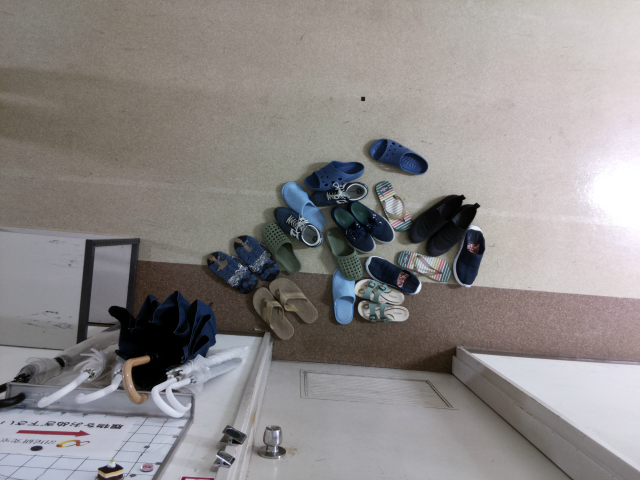Copy of Copy of Copy of Copy of Copy of Copy of Copy of sandal: (375, 180, 412, 231)
Copy of Copy of Copy of Copy of Copy of Copy of Copy of shoe: (365, 255, 421, 296)
Copy of Copy of Copy of Copy of Copy of Copy of sandal: (396, 249, 451, 282)
Copy of Copy of Copy of Copy of Copy of Copy of shoe: (451, 224, 484, 288)
Copy of Copy of Copy of Copy of Copy of sandal: (358, 299, 409, 323)
Copy of Copy of Copy of Copy of Copy of shoe: (425, 201, 480, 257)
Copy of Copy of Copy of Copy of Copy of slipper: (367, 137, 428, 175)
Copy of Copy of Copy of Copy of sandal: (354, 278, 404, 306)
Copy of Copy of Copy of Copy of shoe: (407, 193, 466, 243)
Copy of Copy of Copy of Copy of slipper: (280, 181, 325, 231)
Copy of Copy of Copy of sandal: (268, 278, 317, 323)
Copy of Copy of Copy of shoe: (349, 200, 395, 243)
Copy of Copy of Copy of slipper: (305, 160, 365, 192)
Copy of Copy of sandal: (251, 286, 295, 341)
Copy of Copy of shoe: (329, 205, 376, 253)
Copy of Copy of slipper: (324, 226, 363, 280)
Copy of sandal: (232, 235, 280, 281)
Copy of shoe: (272, 206, 322, 247)
Copy of slipper: (262, 222, 302, 274)
sandal: (206, 250, 258, 294)
shoe: (310, 181, 369, 206)
slipper: (332, 268, 355, 324)
